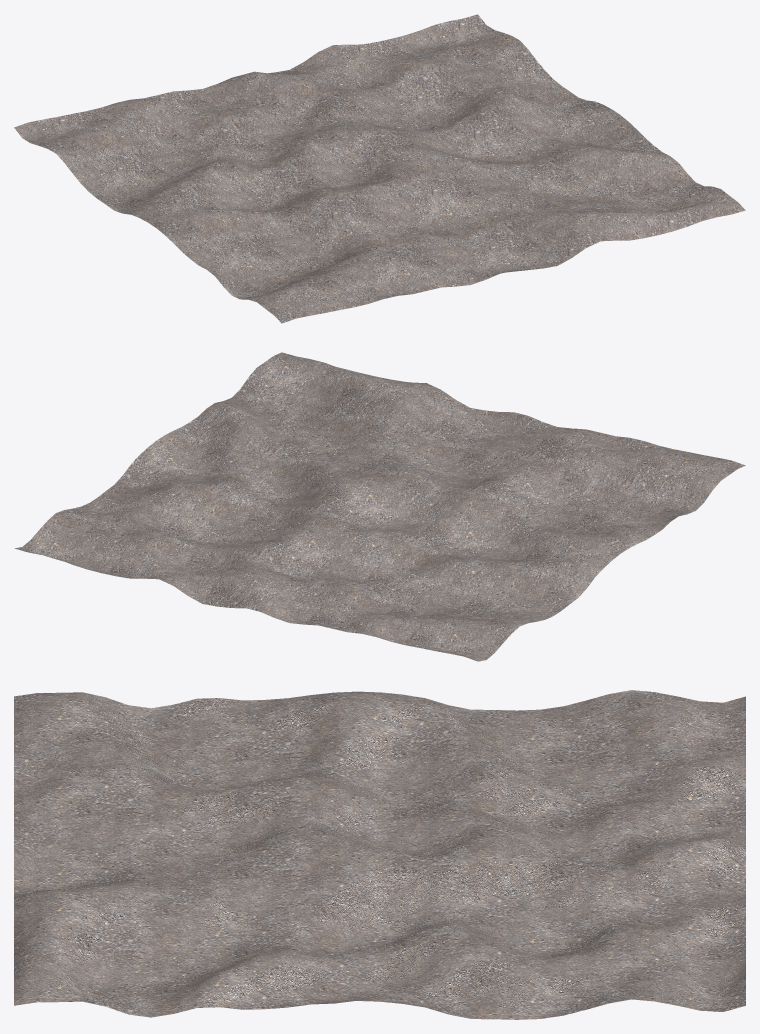
The model's file is terrain.gltf.
The picture shows the model from 3 angles, top to bottom: view 1: azimuth 30°, elevation 25°; view 2: azimuth 150°, elevation 25°; view 3: azimuth 270°, elevation 25°; orthographic projection. The views are drawn at different scales.
Visible parts, largest first — view 1: Plane; view 2: Plane; view 3: Plane.
Boxes of the visible parts, bbox=[...] form: Plane: bbox=[14, 14, 745, 323]; Plane: bbox=[14, 352, 745, 661]; Plane: bbox=[14, 690, 745, 1019].
Bounding box in the file's own units: 491 × 24.07 × 491.
1 material, 1 textured.
